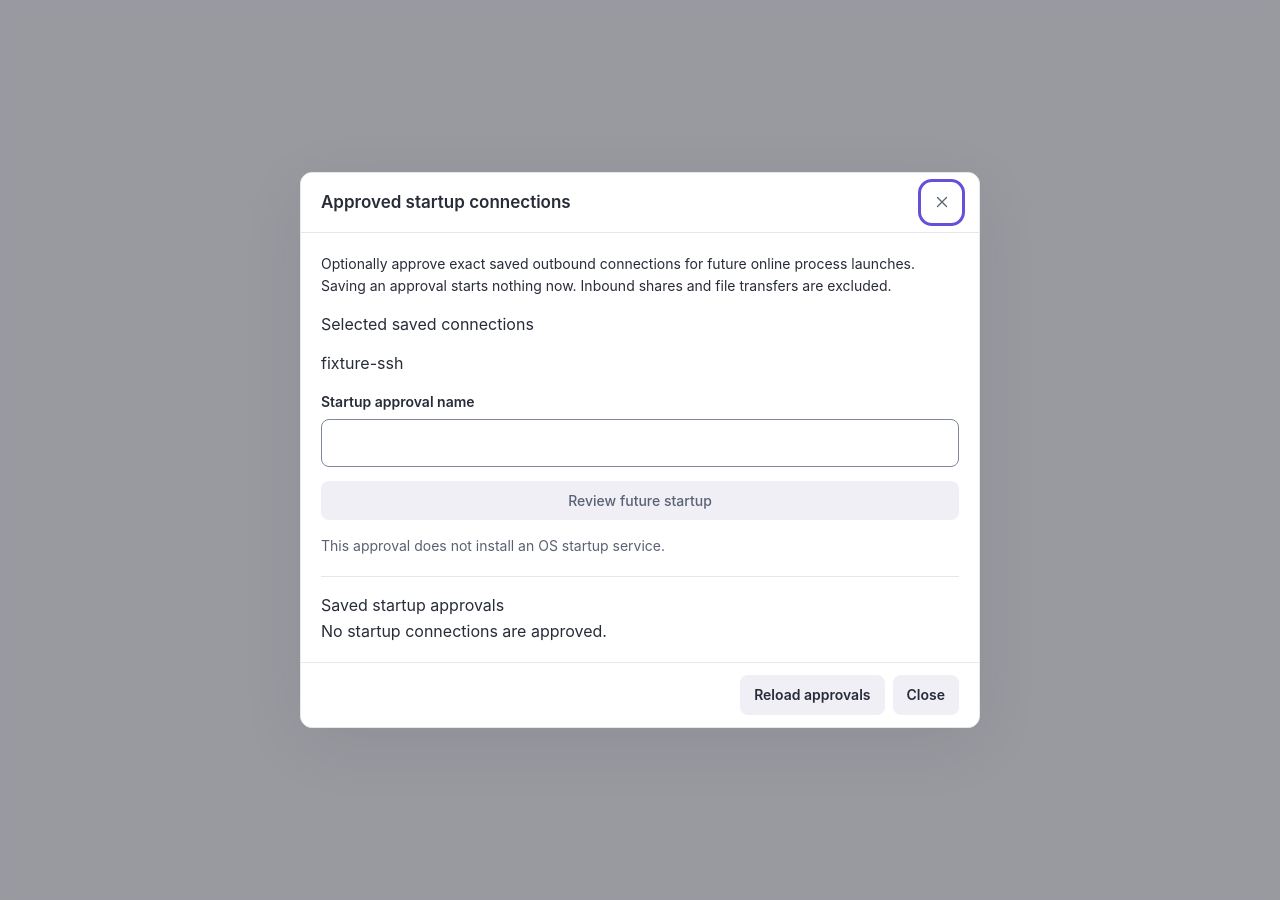
it: explicit future outbound startup › reviews exact finite scope before save and never starts now (en)
Expected: the button "Reload approvals" is enabled, [740,676,884,715]
Type "fixture-startup" into the field labelled "Startup approval name" at [640, 443], box [321,419,959,467]
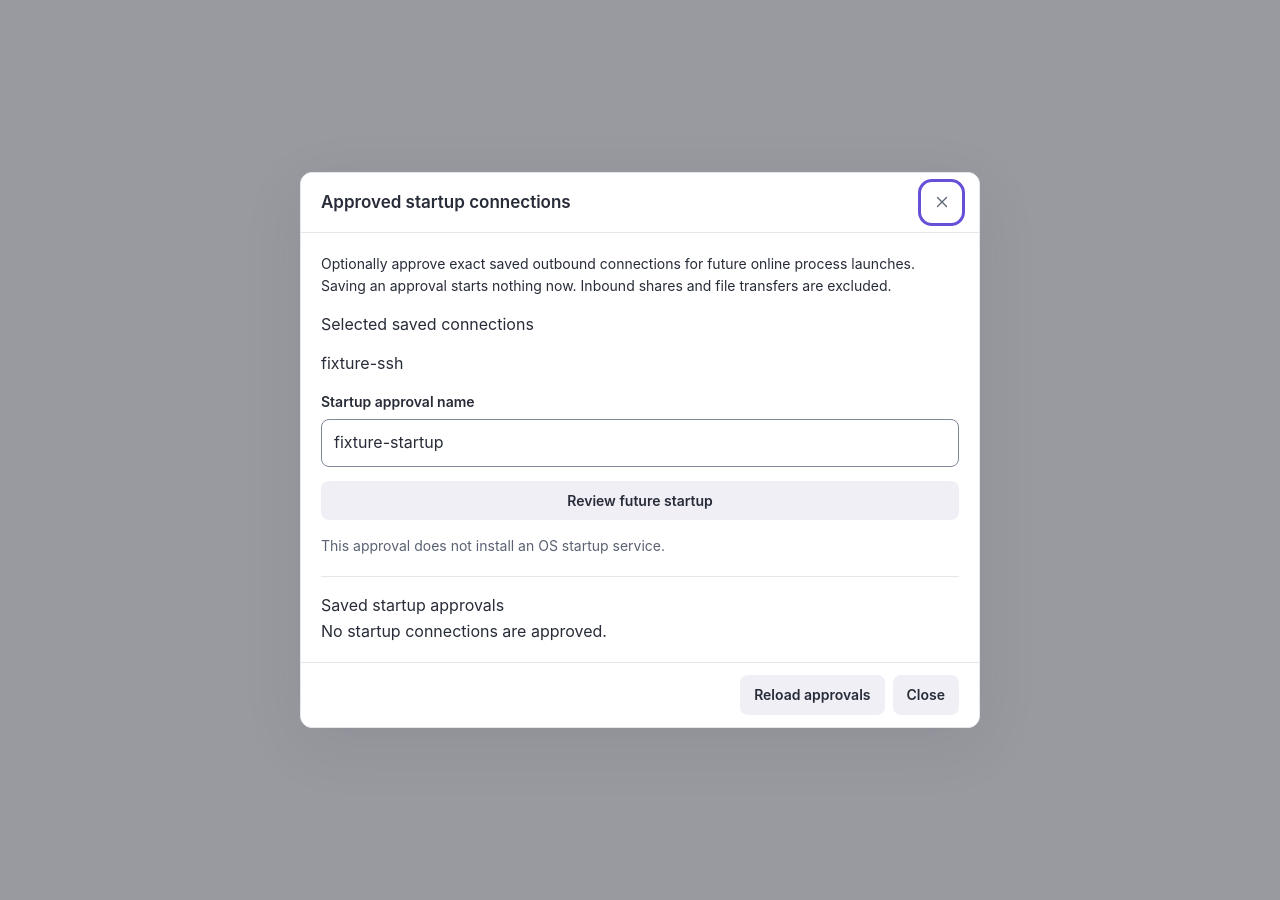
Click the button "Review future startup" at [640, 501], box [321,481,959,520]
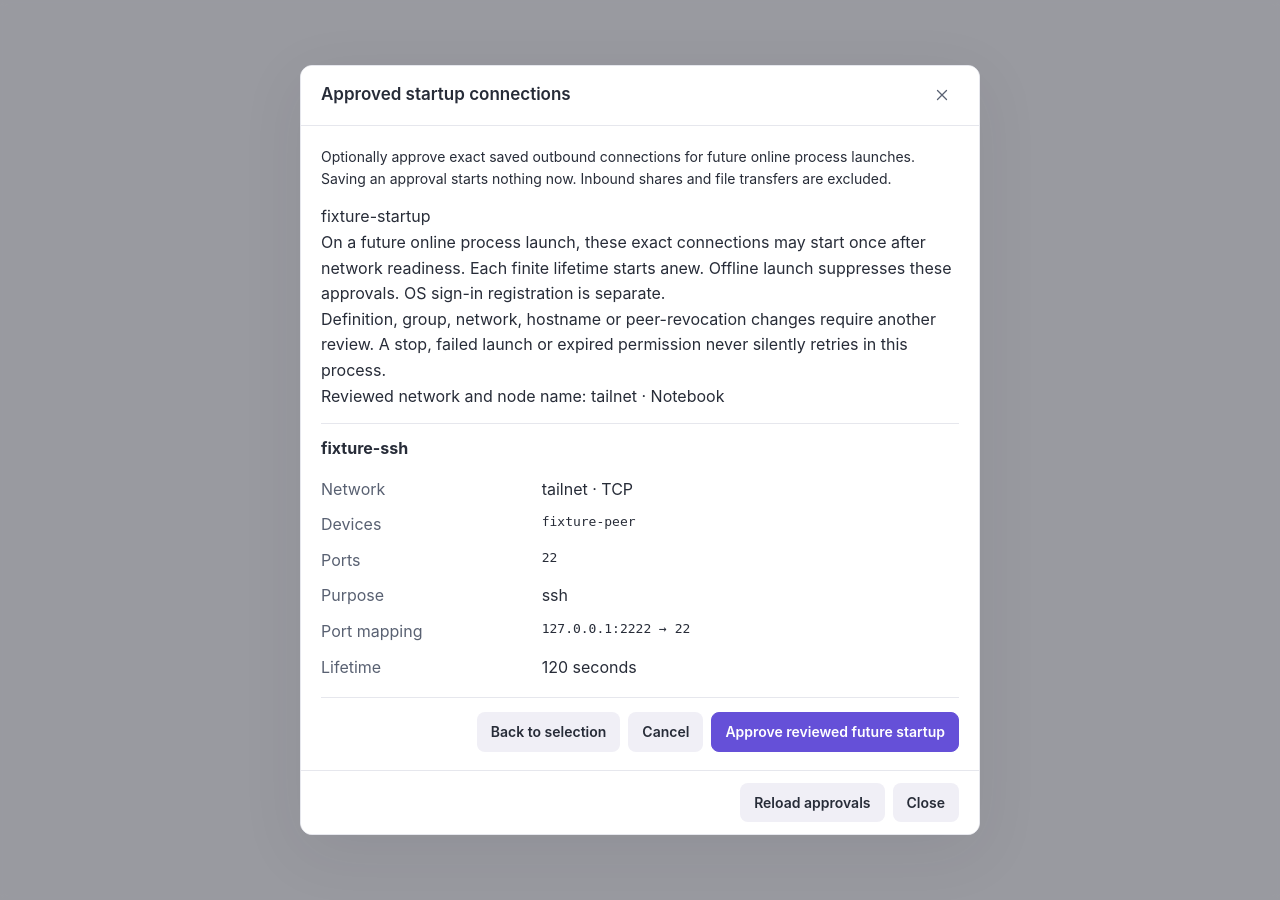
Expected: the element named "Review startup scope" shows "fixture-peer", [542,514,636,529]
Expected: the element named "Review startup scope" shows "127.0.0.1:2222 → 22", [321,204,959,752]
Expected: the element named "Review startup scope" shows "120", [542,657,637,677]
Click the button "Approve reviewed future startup" at [835, 732], box [711,712,959,752]
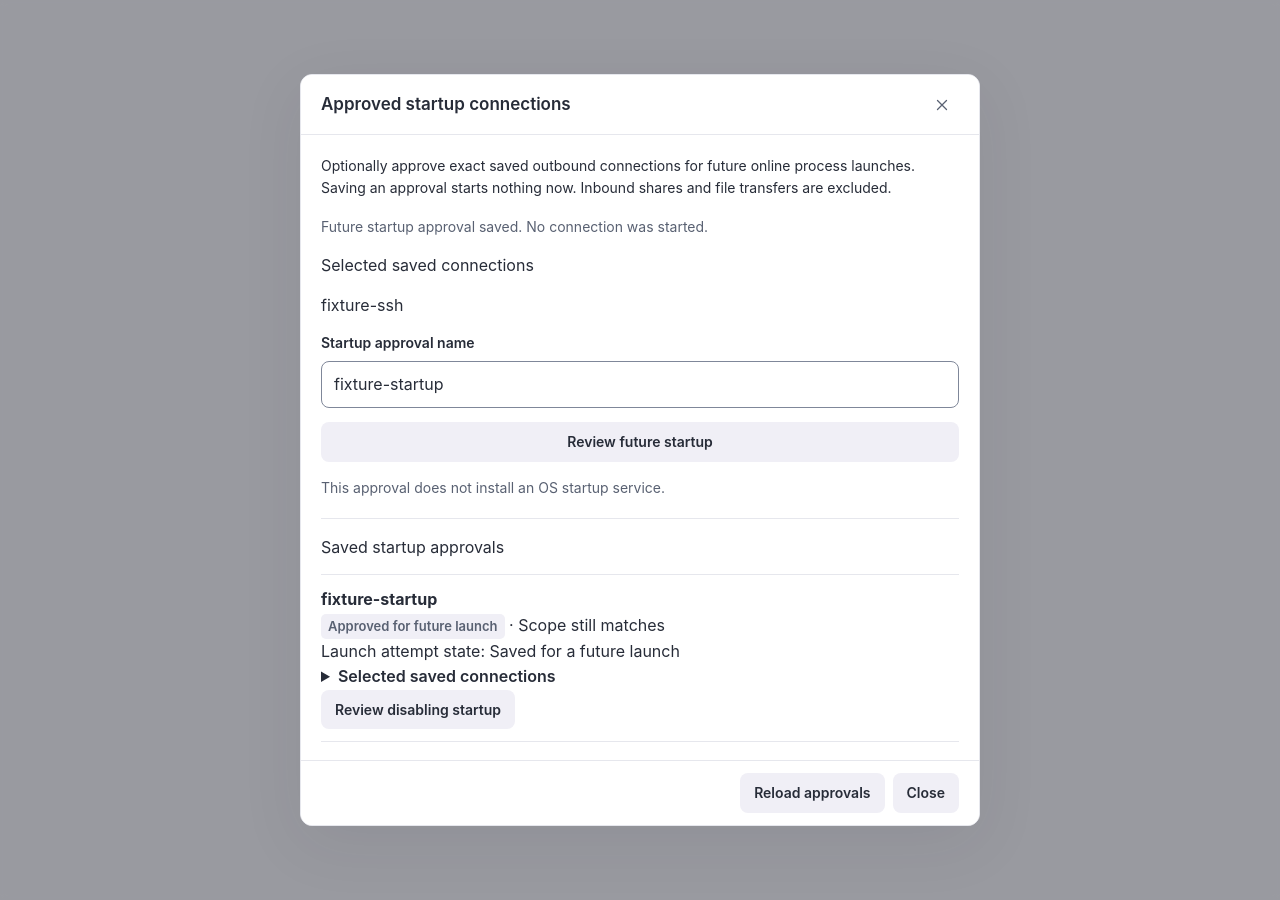
Expected: the message reads "Future startup approval saved. No connection was started.", [321,218,708,235]
